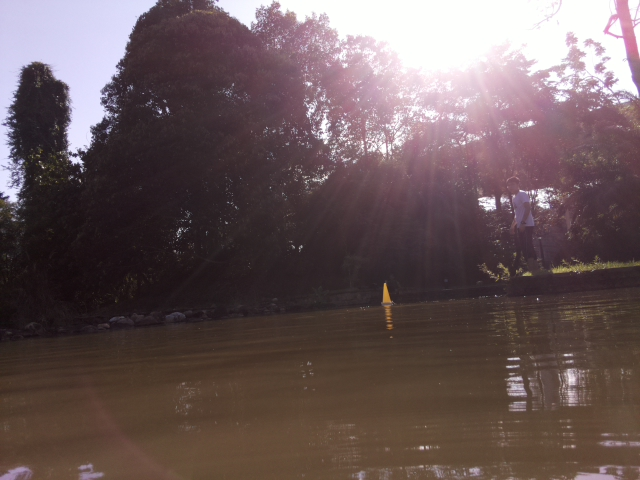checkpoint: (381, 278, 393, 304)
